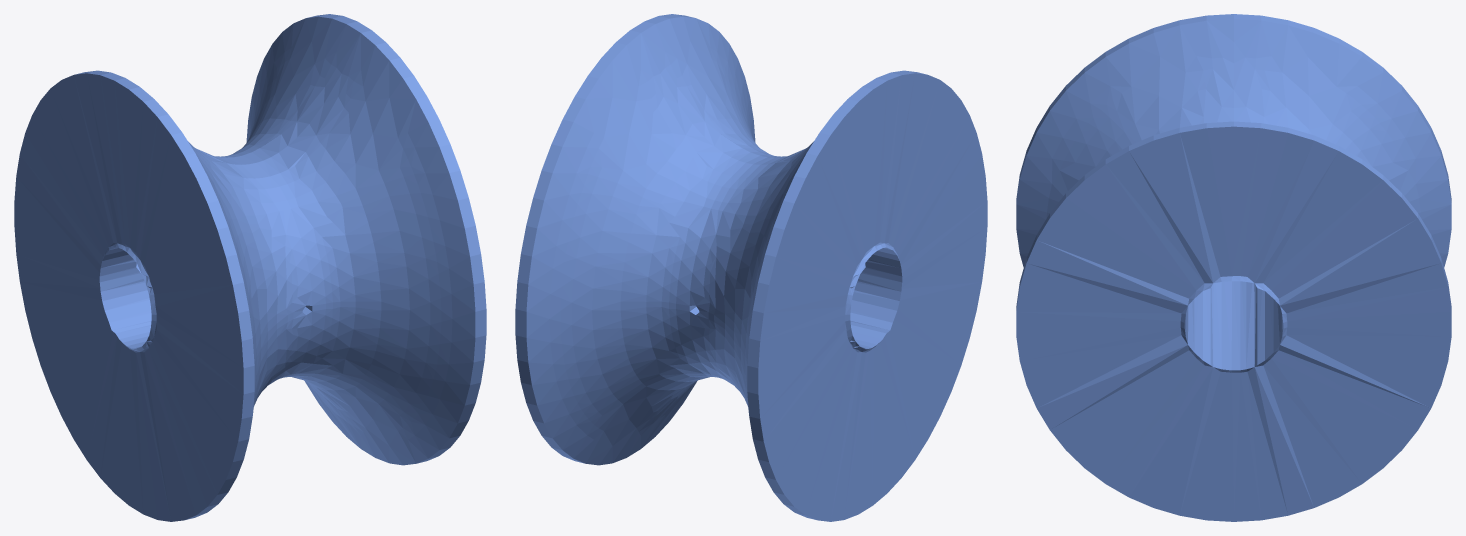
Rendered from spool.glb.
The picture shows the model from 3 angles, left to right: view 1: azimuth 30°, elevation 25°; view 2: azimuth 150°, elevation 25°; view 3: azimuth 270°, elevation 25°; orthographic projection. The views are drawn at different scales.
Size of the model in its own units: 0.0229 by 0.036 by 0.0359.
